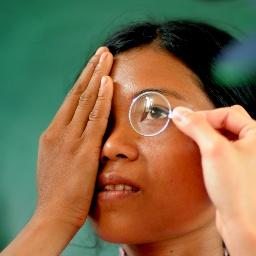Eye-glass: (112, 89, 198, 142)
